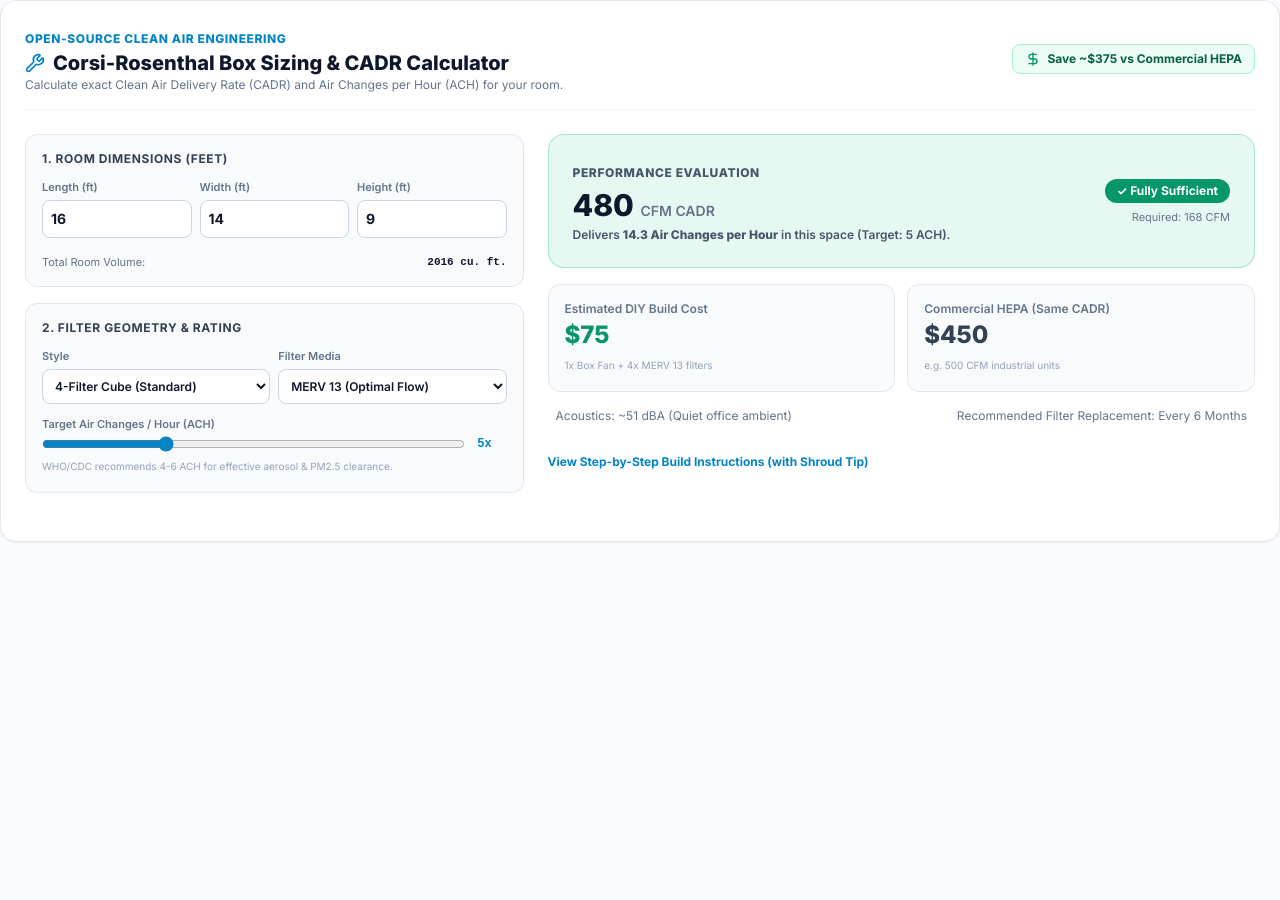
Test: CorsiRosenthalCalculator Component › toggles the step-by-step assembly protocol accordion
Expected: the text "Official Open-Source Corsi-Rosenthal Assembly Protocol" is not shown
What coordinates should you click on to do the following:
click the button "View Step-by-Step Build Instructions (with Shroud Tip)"
I would click on:
 (708, 462)
Its box is [548,454,868,470].
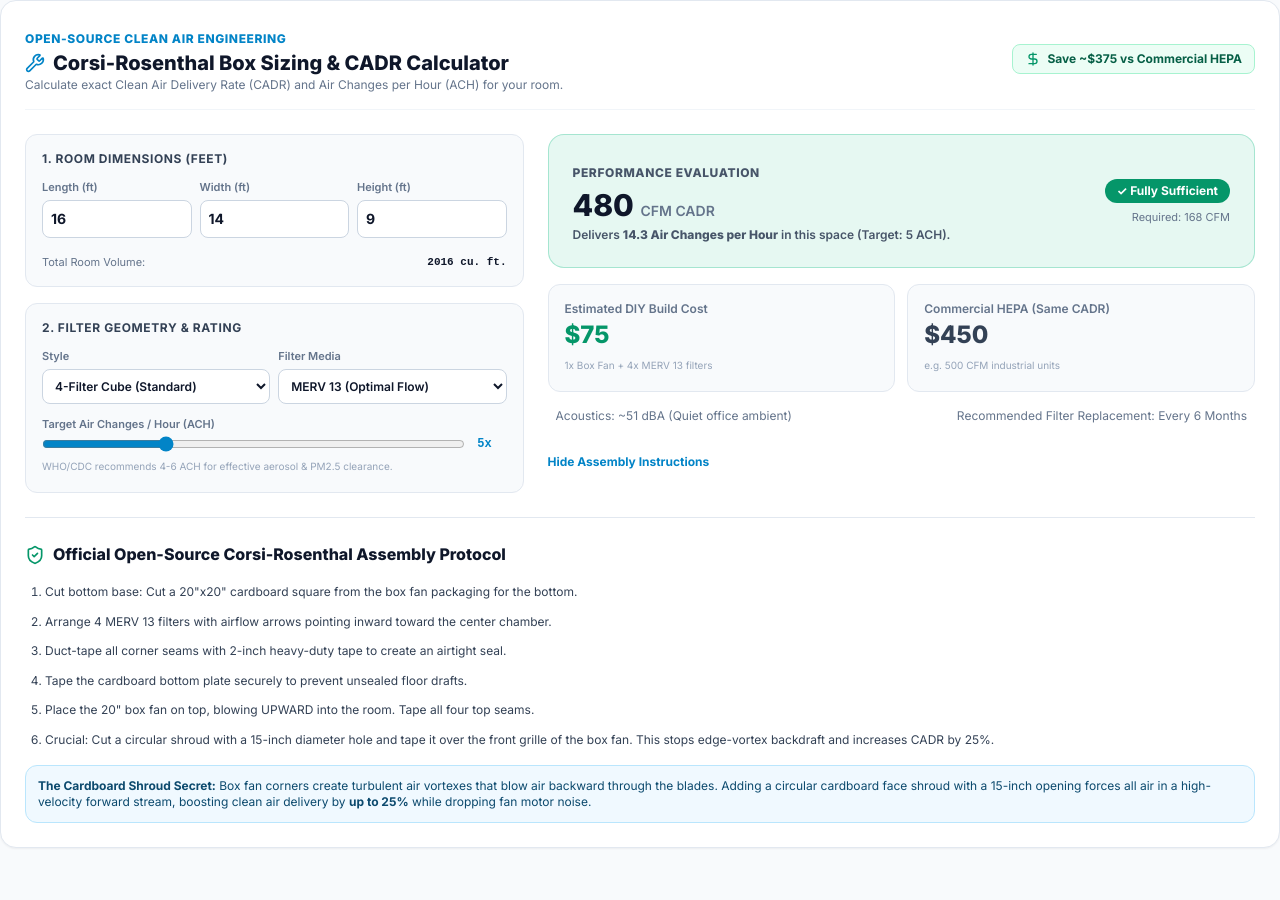
Now the heading "Official Open-Source Corsi-Rosenthal Assembly Protocol" is shown, box [53,542,506,566]
Now the text "The Cardboard Shroud Secret:" is shown, box [38,778,216,793]
What coordinates should you click on to do the following:
click the button "Hide Assembly Instructions"
I would click on:
 (628, 462)
Its box is [548,454,709,470].
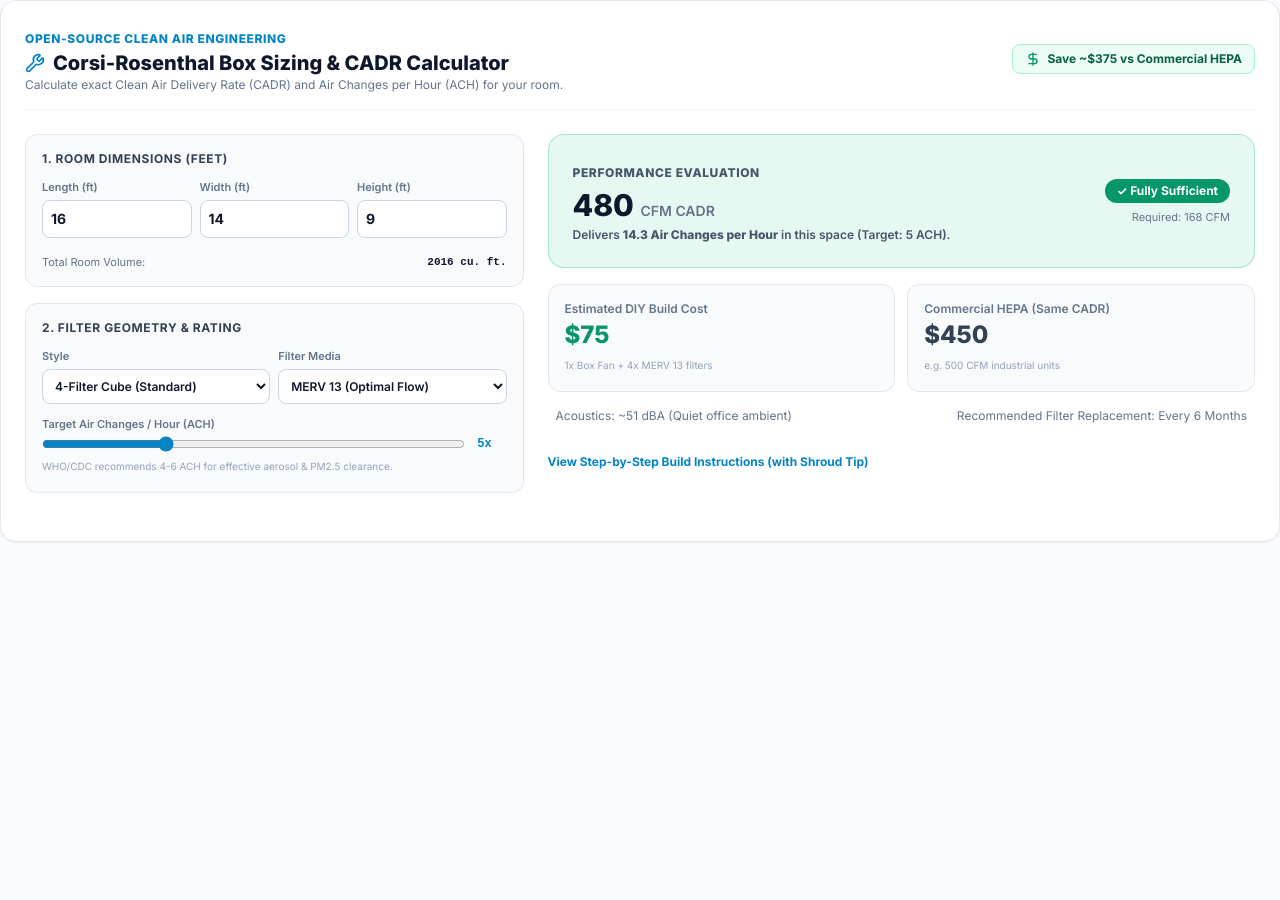
Now the heading "Official Open-Source Corsi-Rosenthal Assembly Protocol" is gone
